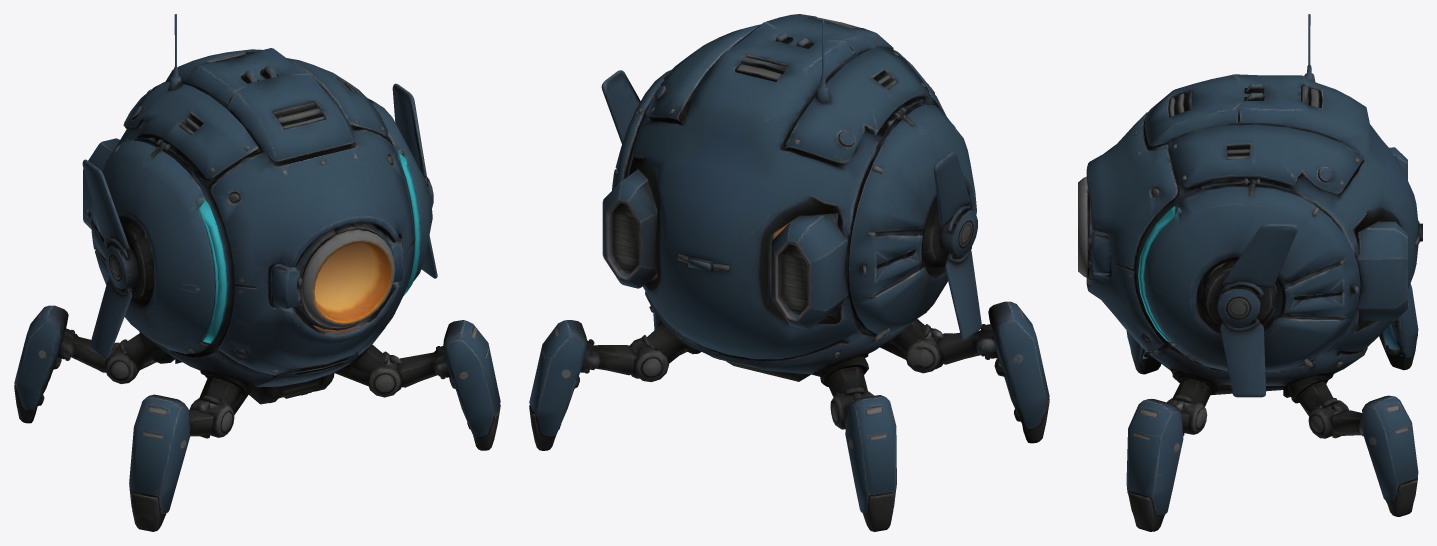
File: selected.fbx
3 views of the same model, side by side, from view 1: azimuth 30°, elevation 25°; view 2: azimuth 150°, elevation 25°; view 3: azimuth 270°, elevation 25° (orthographic). The views are drawn at different scales.
Parts seen in each view (by area): view 1: tripo_node_a4c8b887-2f03-467e-acde-353d91df304d; view 2: tripo_node_a4c8b887-2f03-467e-acde-353d91df304d; view 3: tripo_node_a4c8b887-2f03-467e-acde-353d91df304d.
Part boxes in pixels (x1,y1,x2,y2): tripo_node_a4c8b887-2f03-467e-acde-353d91df304d: (14, 14, 500, 531); tripo_node_a4c8b887-2f03-467e-acde-353d91df304d: (529, 14, 1049, 531); tripo_node_a4c8b887-2f03-467e-acde-353d91df304d: (1078, 14, 1422, 531).
Size of the model in its own units: 0.9004 by 0.9995 by 0.7612.
1 material, 1 textured.
